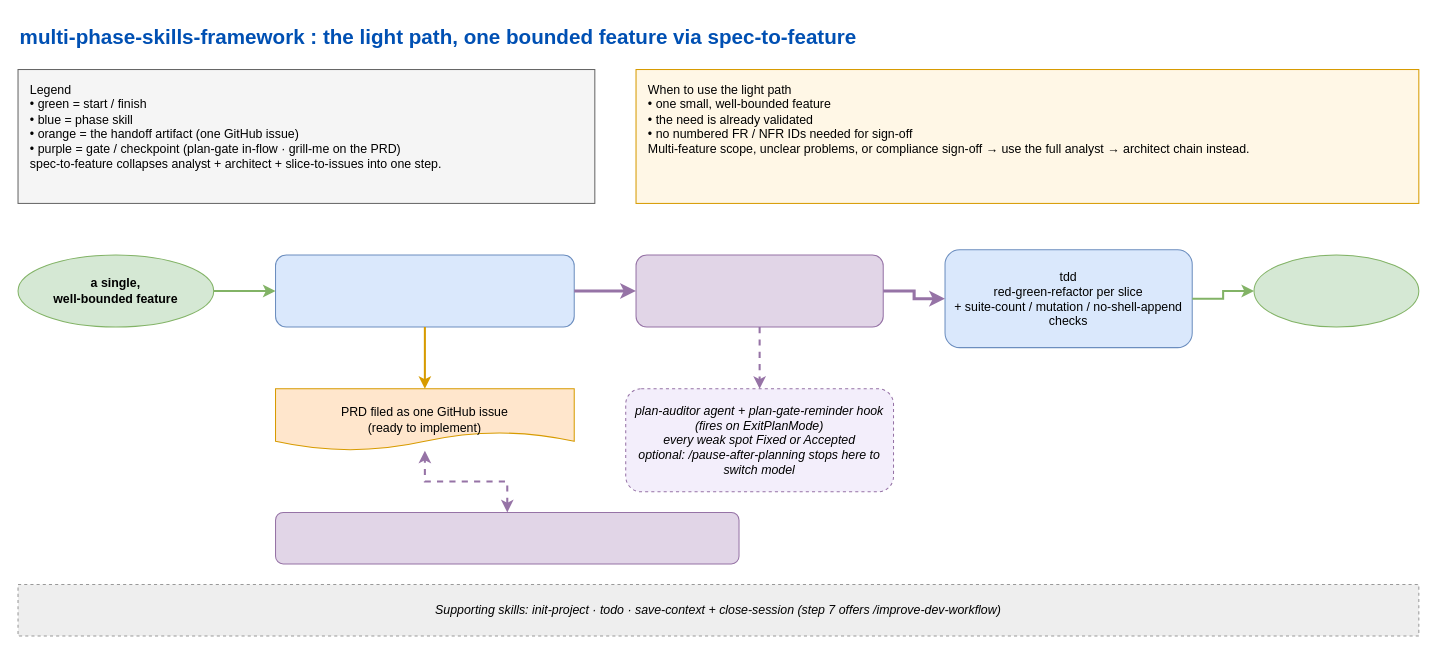
Image size: 1437x654. Some labels were removed from this diagram. The box of each missing label's shape, as (x1, y1, x2, y2) in pixels:
grill-me : stress-test the PRD before committing to it: (274, 511, 739, 564)
plan-gate gate the approved plan before execution: (635, 254, 883, 327)
spec-to-feature interview + explore the codebase + deep-module design: (274, 254, 574, 327)
tested code: (1253, 254, 1419, 327)
